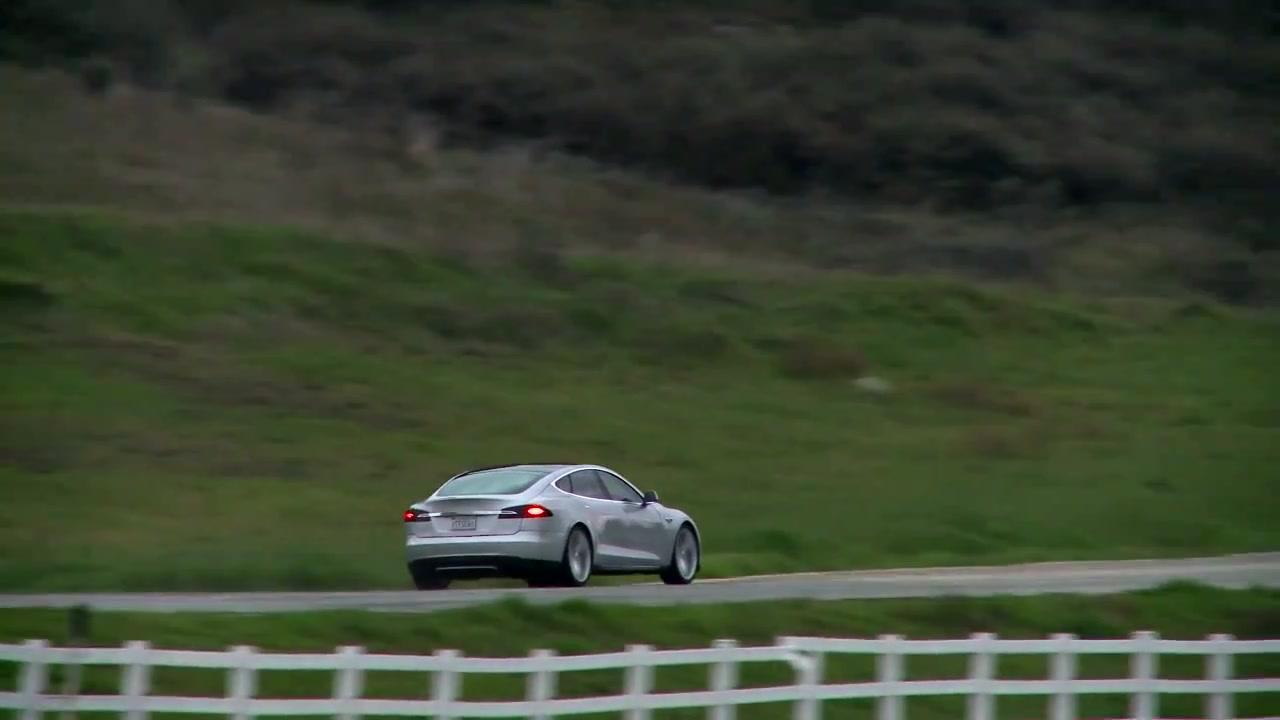car: (402, 463, 705, 595)
